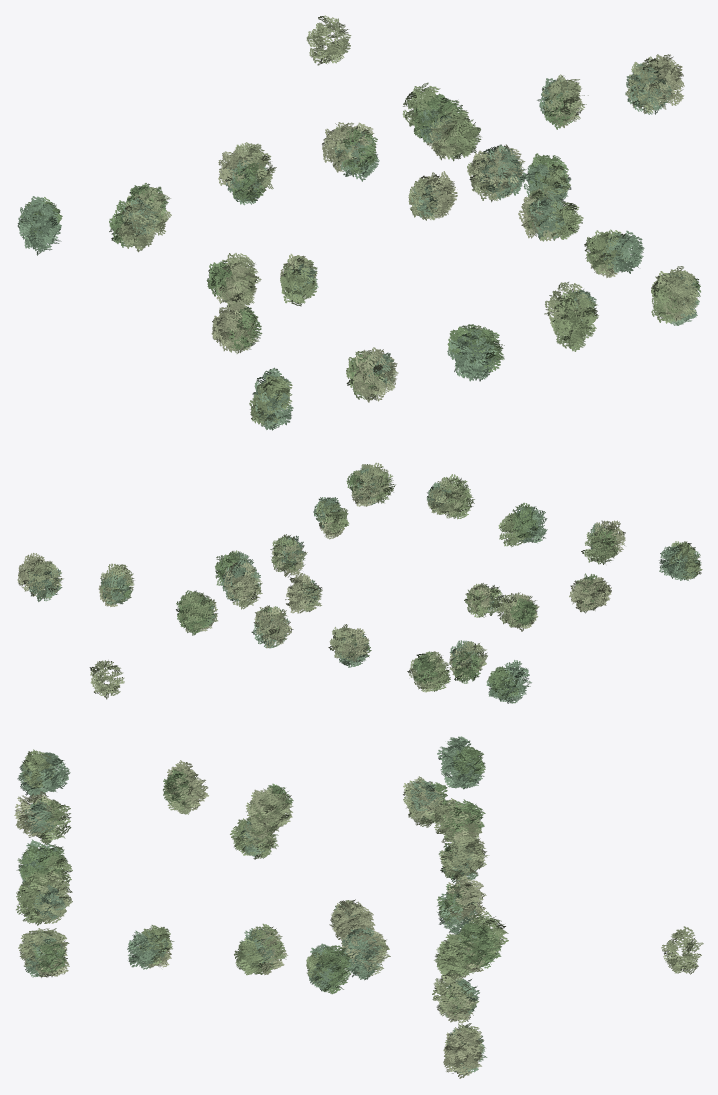
Rendered from campus-tree-0_-1-near.glb.
3 renders of one model, top to bottom at view 1: azimuth 30°, elevation 25°; view 2: azimuth 150°, elevation 25°; view 3: azimuth 270°, elevation 25°, orthographic. The views are drawn at different scales.
Visible parts, largest first — view 1: Campus leaf canopy; view 2: Campus leaf canopy; view 3: Campus leaf canopy.
Boxes of the visible parts, x1,y1,x2,y2 form: Campus leaf canopy: (17, 15, 700, 430); Campus leaf canopy: (17, 462, 702, 703); Campus leaf canopy: (14, 736, 703, 1078).
Size of the model in its own units: 73.66 by 7.74 by 71.47.
1 material, 1 textured.
